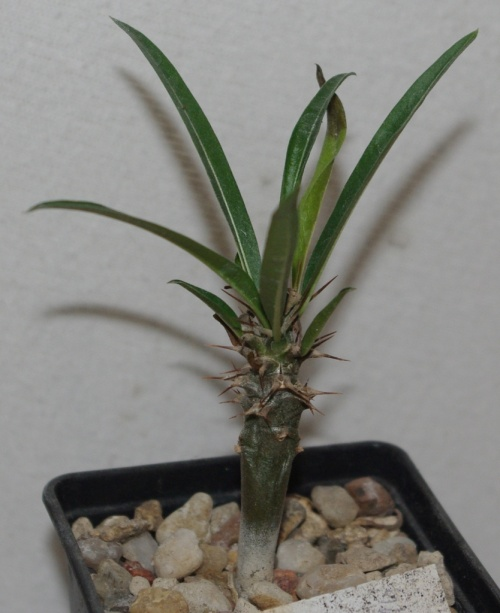Pachypodium meridionale: (131, 47, 375, 577)
